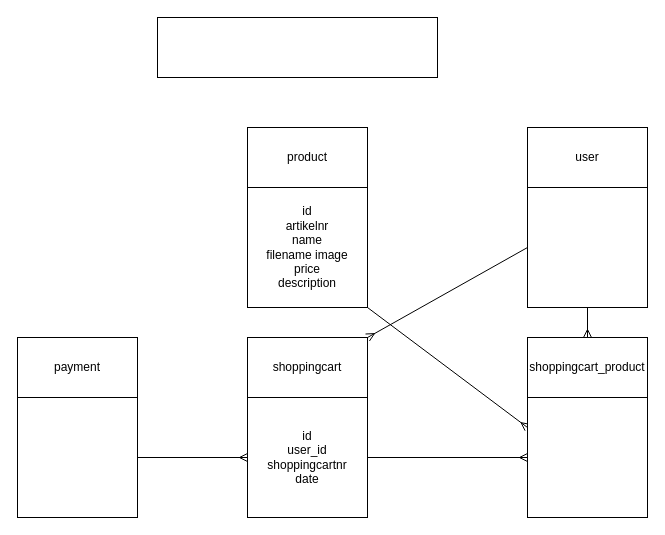
This 665x535 diagram has some shape labels left out. The box of each missing label's shape, as (x1, y1, x2, y2) in pixels:
ERD Webshop: (156, 16, 438, 78)
id klantnr name adress zip code city: (526, 186, 648, 308)
id shoppingcart_id artikel_id amount price: (526, 396, 648, 518)
id user_id shoppingcart_id total_price: (16, 396, 138, 518)
